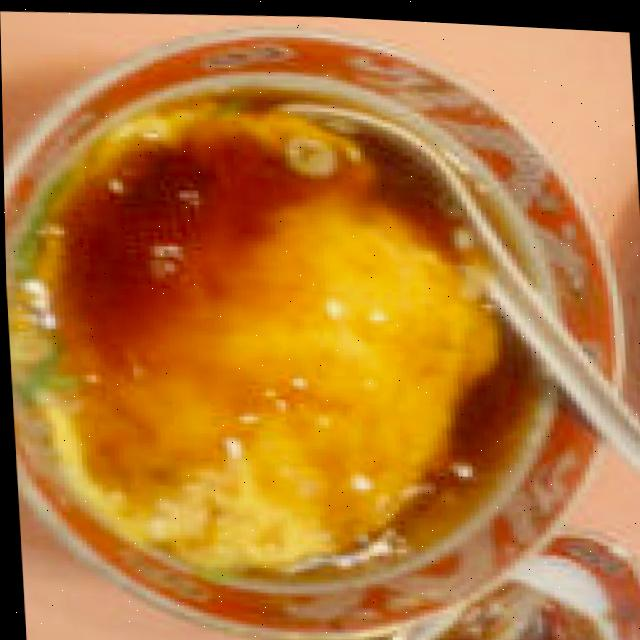面条主食: (0, 5, 602, 605)
